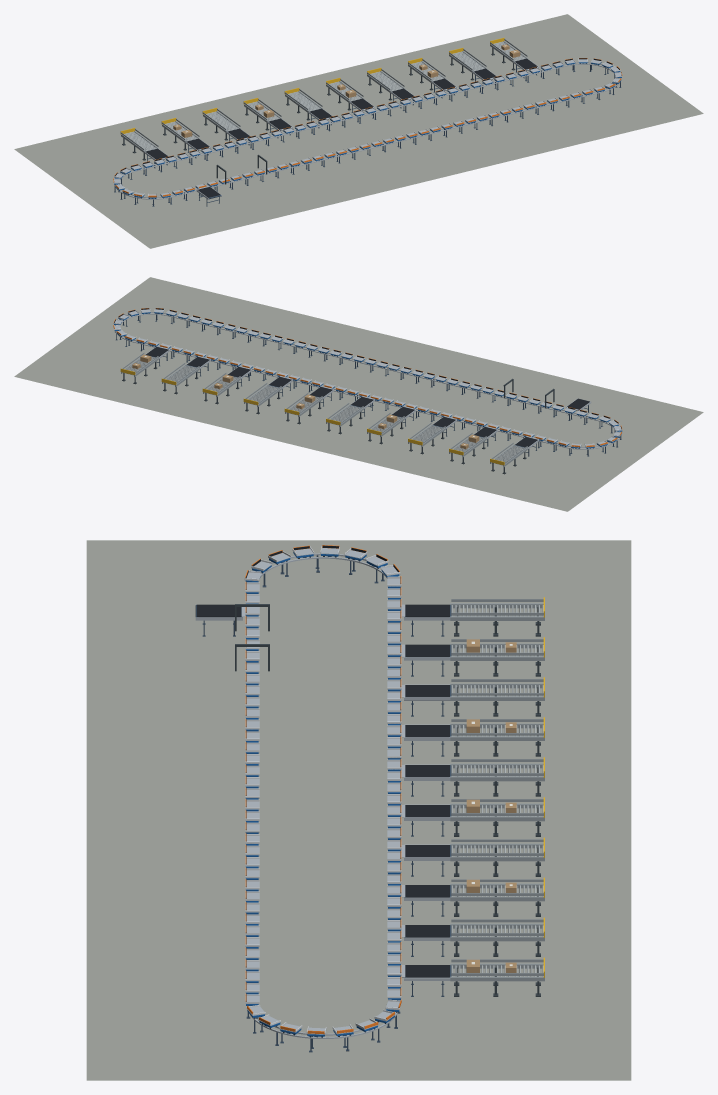
3 renders of one model, top to bottom at view 1: azimuth 30°, elevation 25°; view 2: azimuth 150°, elevation 25°; view 3: azimuth 270°, elevation 25°, orthographic. The views are drawn at different scales.
Parts seen in each view (by area): view 1: Studio ground, Instances: push_tray_carrier-147c8735d43d, Outfeed roller beds, Outfeed side beams, Outfeed containment guides, guide-rail--1, guide-rail-1, Illustrative accumulated cartons, End guard bars, Outfeed legs and footplates; view 2: Studio ground, Instances: push_tray_carrier-147c8735d43d, Outfeed roller beds, Outfeed side beams, Outfeed containment guides, guide-rail--1, guide-rail-1, Outfeed legs and footplates, Illustrative accumulated cartons, End guard bars; view 3: Studio ground, Instances: push_tray_carrier-147c8735d43d, Outfeed side beams, Outfeed containment guides, Outfeed roller beds, Outfeed legs and footplates, Illustrative accumulated cartons.
Part boxes in pixels (x1,y1,x2,y2): Studio ground: (14, 14, 703, 248); Instances: push_tray_carrier-147c8735d43d: (113, 58, 622, 198); Outfeed roller beds: (124, 41, 526, 151); Outfeed side beams: (121, 41, 527, 153); Outfeed containment guides: (121, 39, 527, 149); guide-rail--1: (120, 63, 614, 197); guide-rail-1: (116, 62, 619, 199); Illustrative accumulated cartons: (173, 44, 520, 137); End guard bars: (120, 37, 504, 134); Outfeed legs and footplates: (122, 48, 515, 160); Studio ground: (14, 277, 703, 511); Instances: push_tray_carrier-147c8735d43d: (113, 308, 622, 448); Outfeed roller beds: (122, 356, 524, 465); Outfeed side beams: (121, 354, 527, 466); Outfeed containment guides: (122, 352, 527, 463); guide-rail--1: (121, 313, 614, 447); guide-rail-1: (115, 312, 619, 449); Outfeed legs and footplates: (122, 362, 526, 474); Illustrative accumulated cartons: (132, 354, 479, 449); End guard bars: (120, 368, 504, 465); Studio ground: (86, 540, 631, 1080); Instances: push_tray_carrier-147c8735d43d: (244, 545, 401, 1037); Outfeed side beams: (450, 603, 544, 981); Outfeed containment guides: (451, 599, 543, 975); Outfeed roller beds: (451, 605, 543, 976); Outfeed legs and footplates: (454, 607, 540, 996); Illustrative accumulated cartons: (466, 639, 516, 972).
Size of the model in its own units: 54 by 2.14 by 23.
